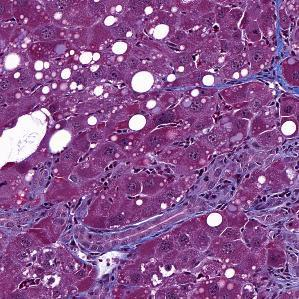fibrosis: (184, 154, 247, 210), (249, 30, 296, 100)
